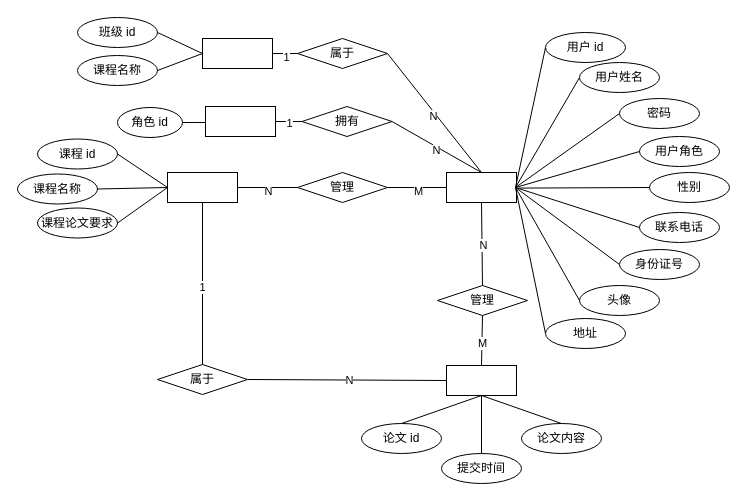
This 747x501 diagram has some shape labels left out. Here are the shapes that lost their labels. From the top down, the centre of each, then its label:
At (x=237, y=53): "班级".
At (x=240, y=121): "角色".
At (x=202, y=187): "课程".
At (x=481, y=187): "用户".
At (x=481, y=380): "论文".
